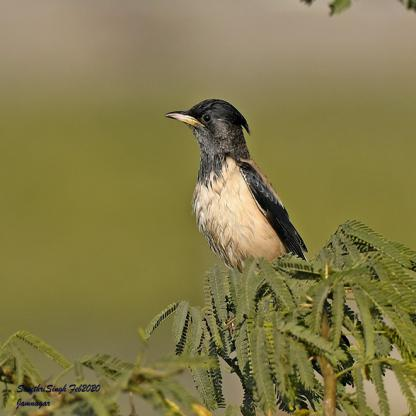Burung: (164, 99, 312, 269)
